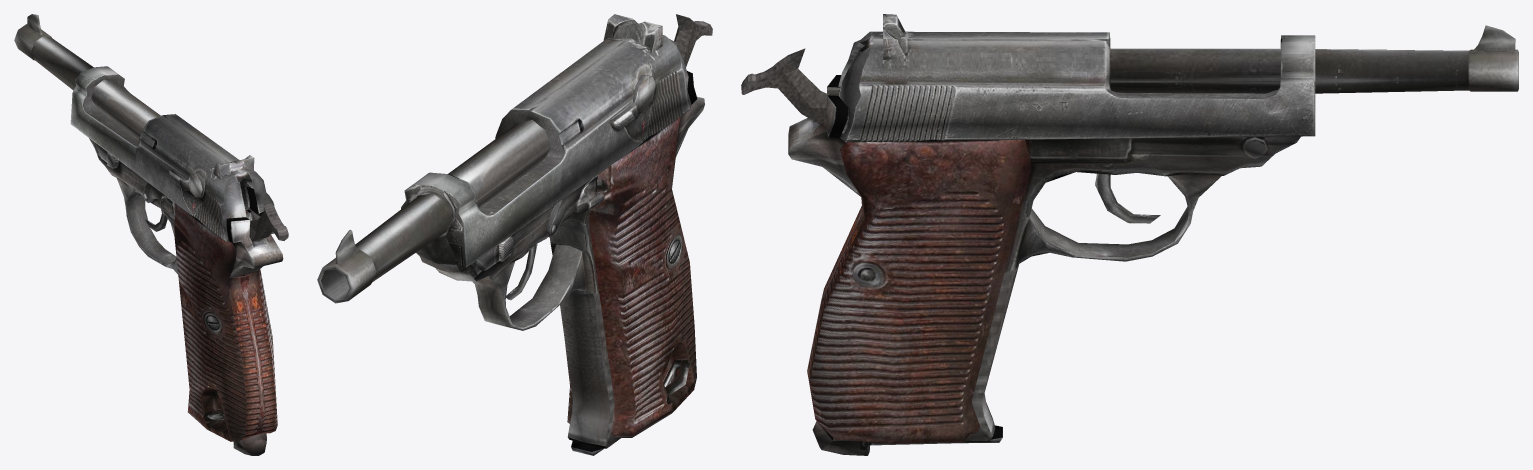
Rendered from p_38_Pistol.fbx.
3 views of the same model, side by side, from view 1: azimuth 30°, elevation 25°; view 2: azimuth 150°, elevation 25°; view 3: azimuth 270°, elevation 25° (orthographic). The views are drawn at different scales.
Visible parts, largest first — view 1: p_38; view 2: p_38; view 3: p_38.
Part boxes in pixels (x1,y1,x2,y2): p_38: [14, 14, 288, 455]; p_38: [317, 14, 712, 455]; p_38: [741, 14, 1518, 455].
Size of the model in its own units: 19.16 by 148 by 90.01.
